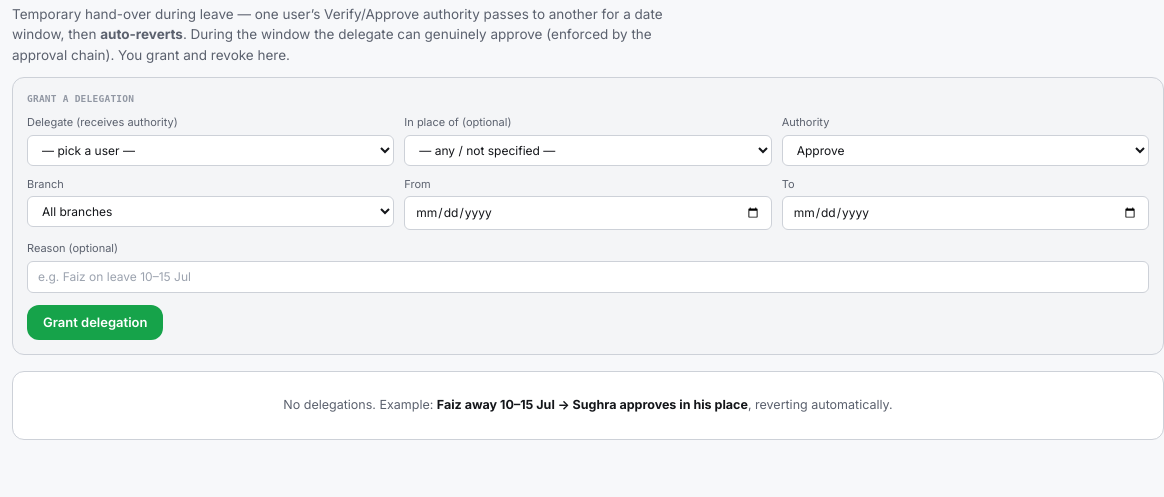
Test: Delegation › validates reversed dates before submit
Step 1. Select "Sughra · Accounts Executive" in the dropdown labelled "Delegate" → (211, 150), box [27,134,394,166]
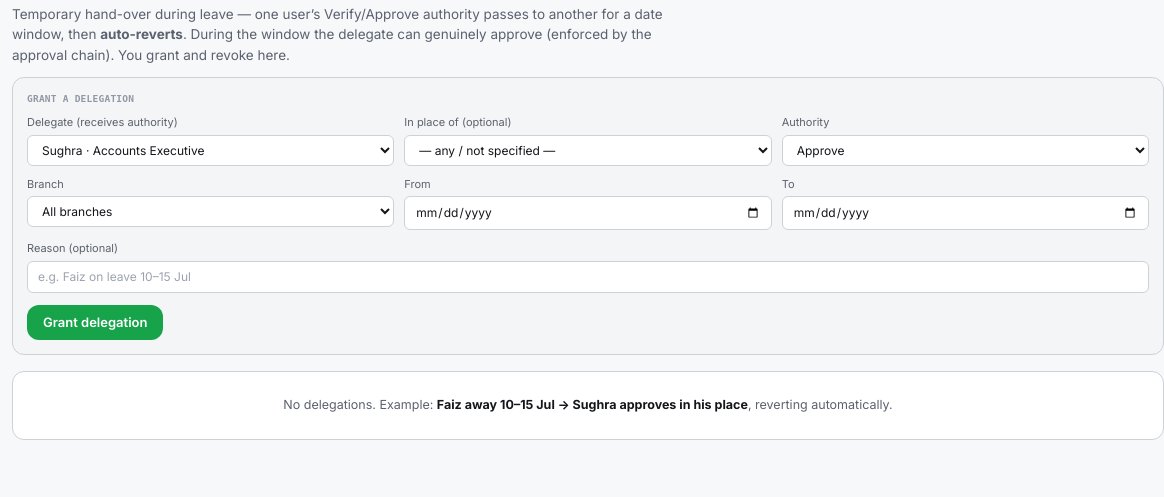
Step 2. Type "2026-07-20" into the date field named "From date" → (588, 213), box [404,196,772,230]
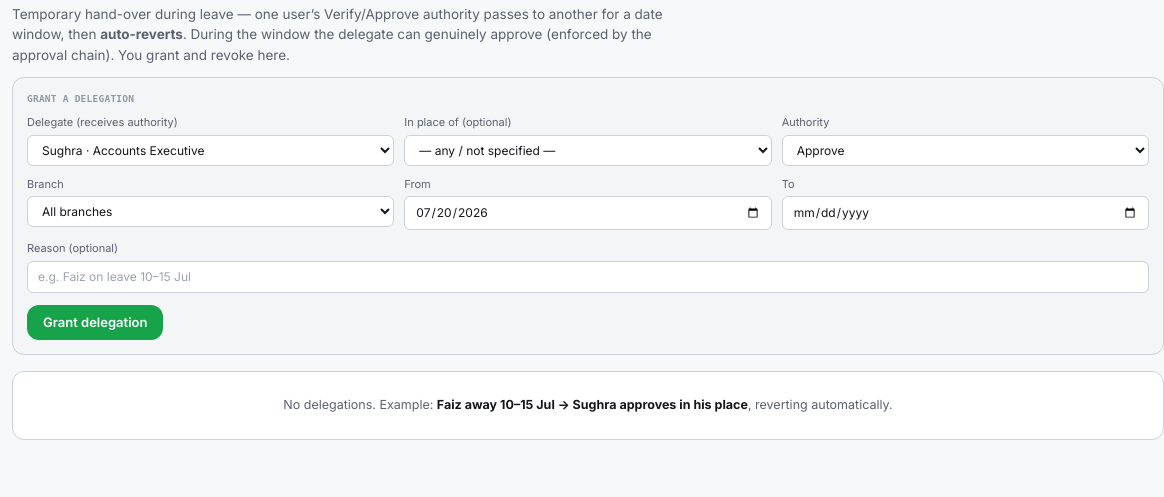
Step 3. Type "2026-07-10" into the date field named "To date" → (965, 213), box [782,196,1149,230]
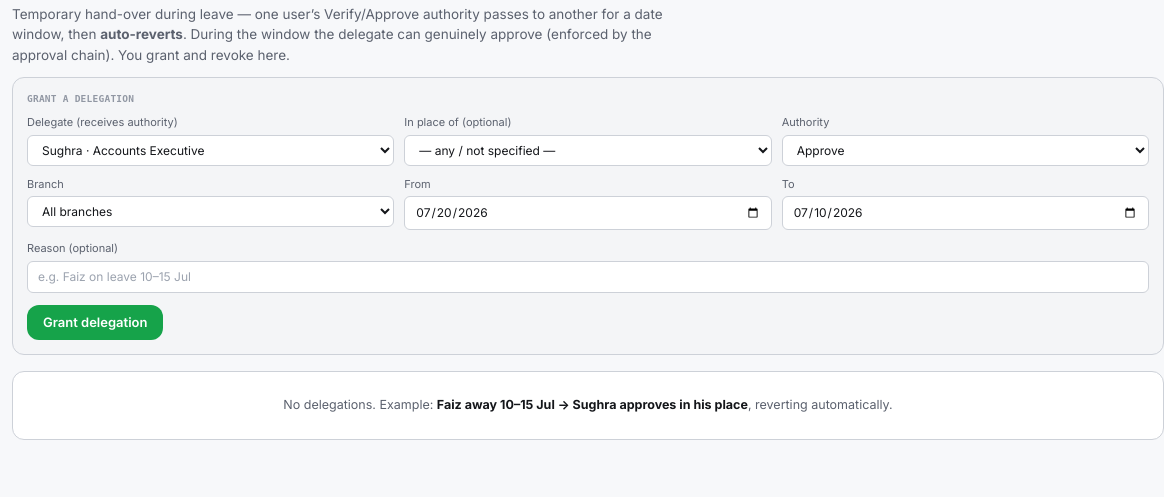
Step 4. Click the button "Grant delegation" → click(95, 322), box [27,304,163,340]
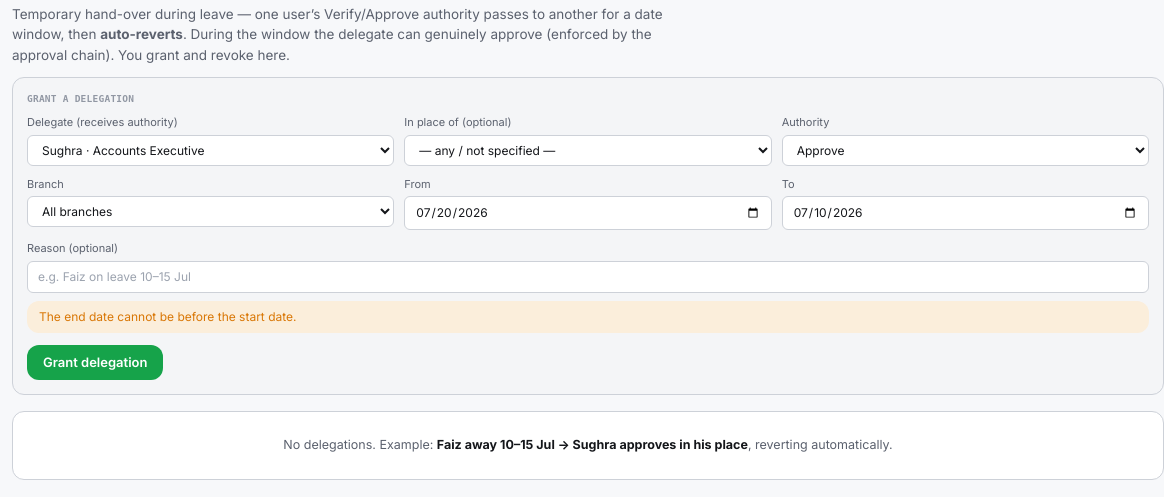
Expected: the message shows "end date cannot be before", [39,308,296,324]
